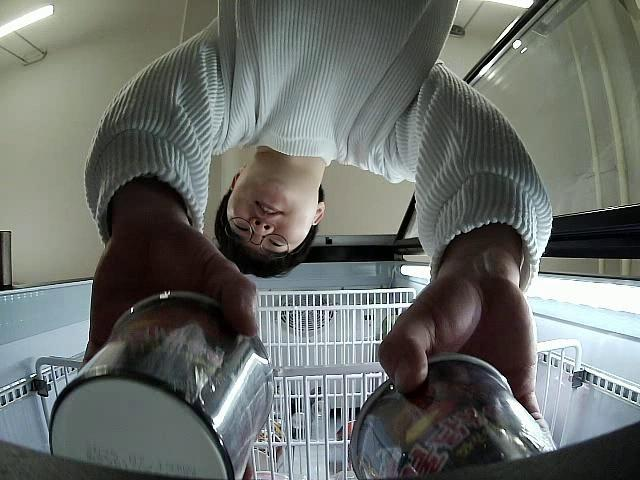08_buldak_S: (51, 292, 278, 480), (352, 356, 554, 480)
